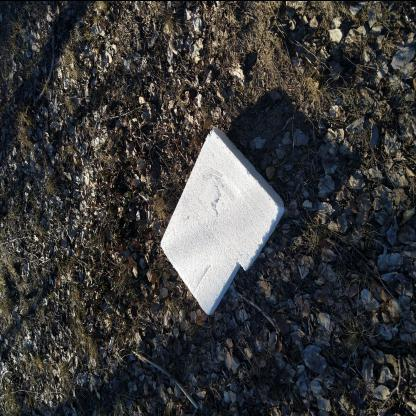kopuk: (161, 128, 286, 314)
